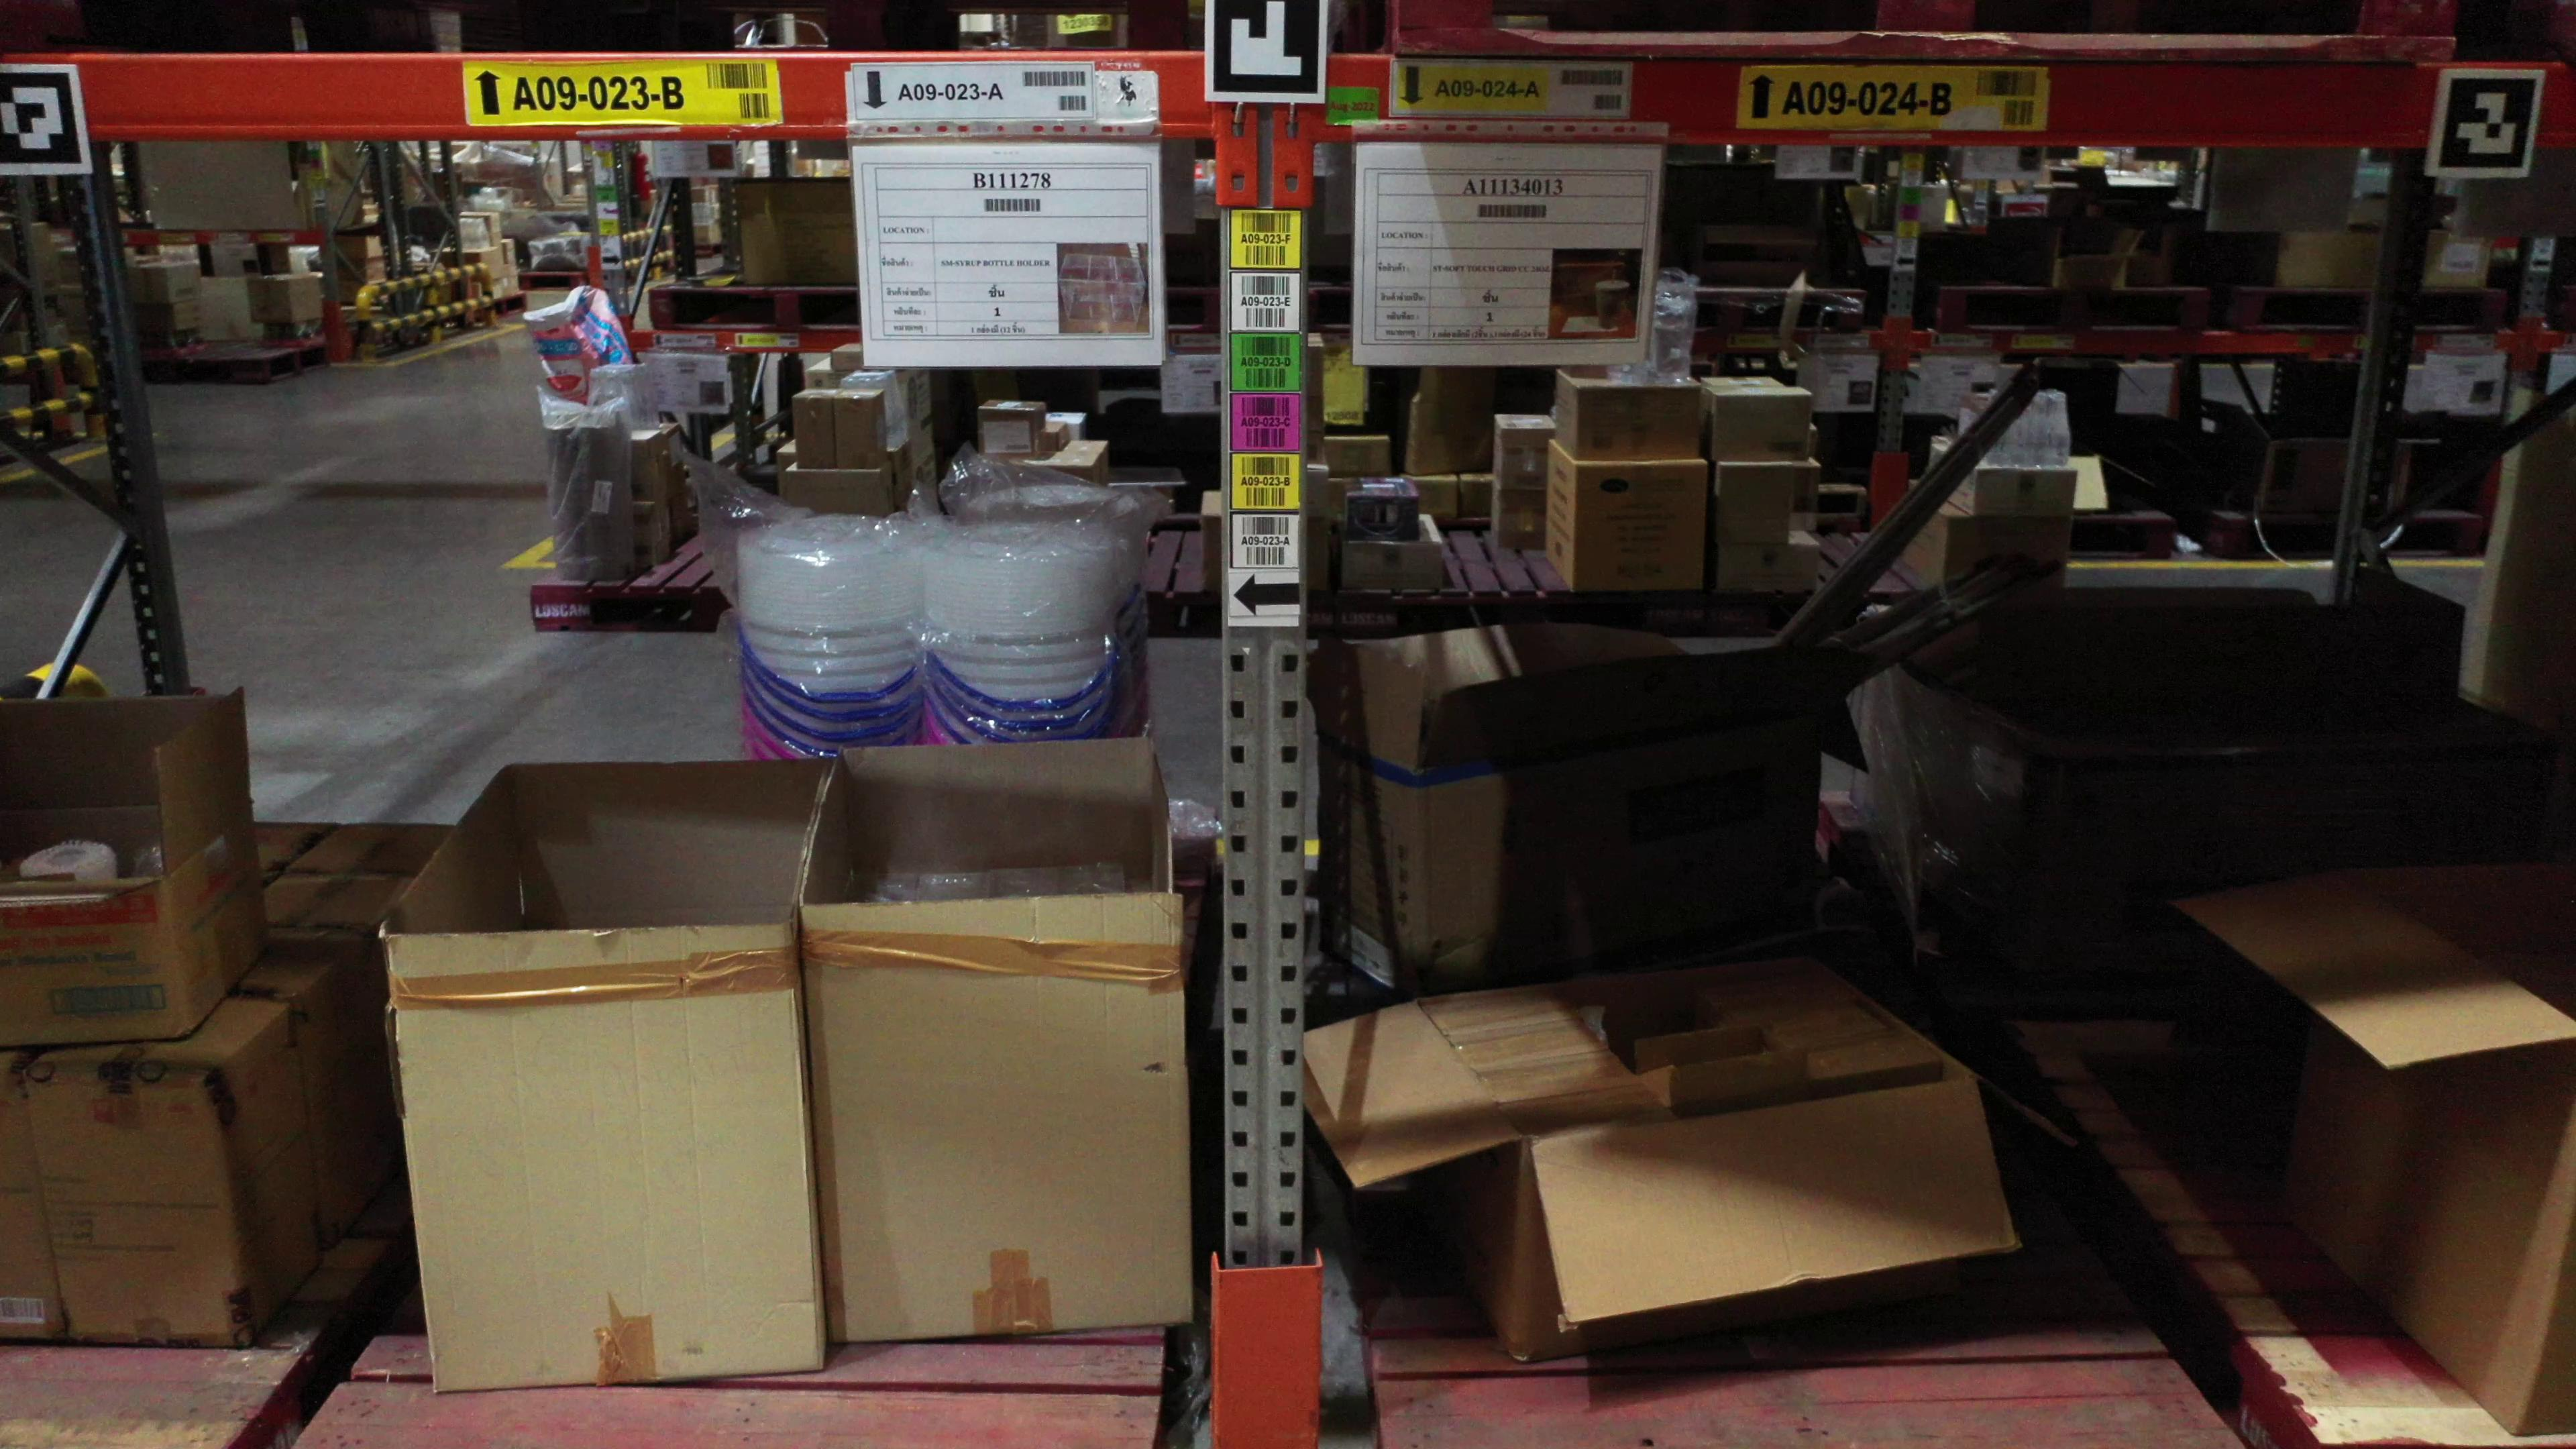-: (389, 922, 823, 1396), (803, 897, 1198, 1348), (1520, 1074, 2017, 1362), (1405, 722, 1822, 1001), (27, 1074, 255, 1350), (0, 874, 193, 1047), (0, 1070, 69, 1345)
